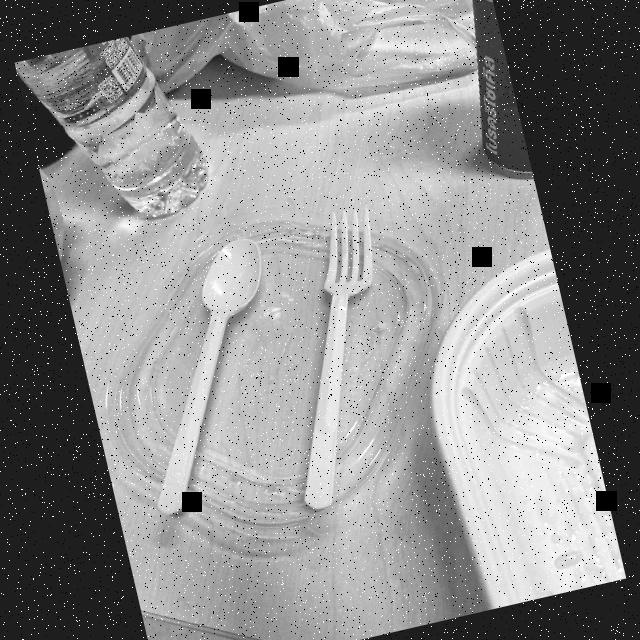plastic_spoon: (110, 228, 322, 520), (244, 202, 438, 512)
